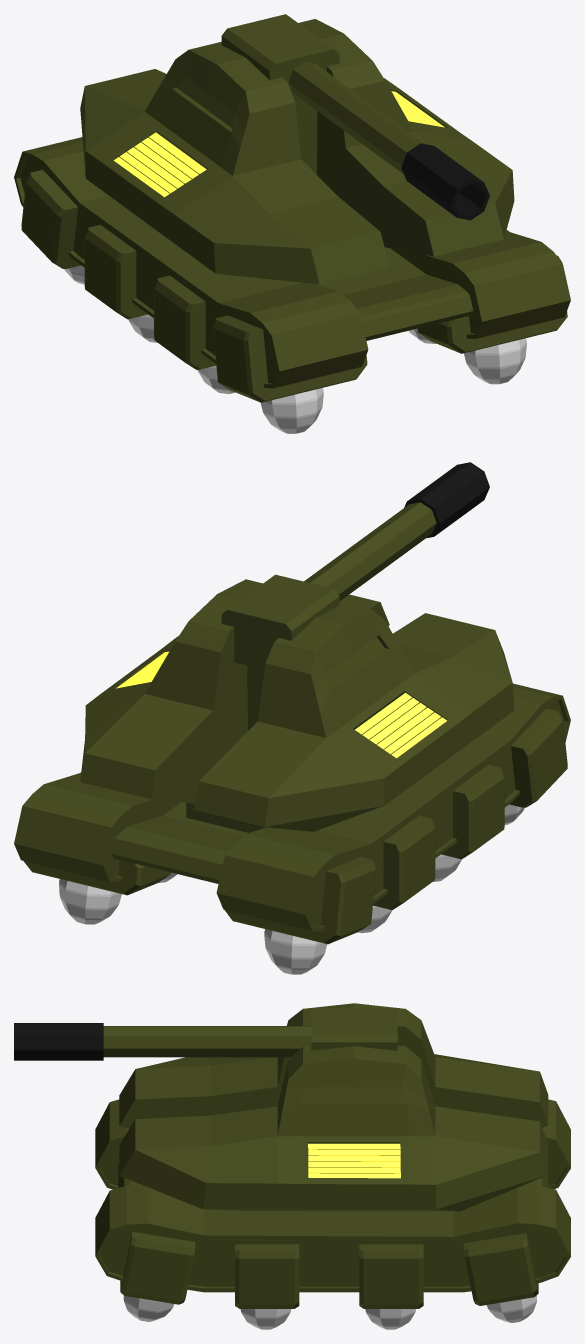
File: flyingTank.fbx
3 views of the same model, one above another, from view 1: azimuth 30°, elevation 25°; view 2: azimuth 150°, elevation 25°; view 3: azimuth 270°, elevation 25° (orthographic). The views are drawn at different scales.
Visible parts, largest first — view 1: topTank_geo, bottomTank_geo, Cannon_geo; view 2: topTank_geo, bottomTank_geo, Cannon_geo; view 3: topTank_geo, bottomTank_geo, Cannon_geo.
Boxes of the visible parts, x1,y1,x2,y2 form: topTank_geo: (80, 19, 514, 284); bottomTank_geo: (14, 137, 570, 433); Cannon_geo: (221, 14, 489, 220); topTank_geo: (80, 579, 514, 832); bottomTank_geo: (14, 683, 570, 974); Cannon_geo: (221, 462, 489, 669); topTank_geo: (119, 1003, 548, 1211); bottomTank_geo: (95, 1099, 570, 1329); Cannon_geo: (14, 1009, 397, 1060).
Size of the model in its own units: 136 by 119 by 230.
